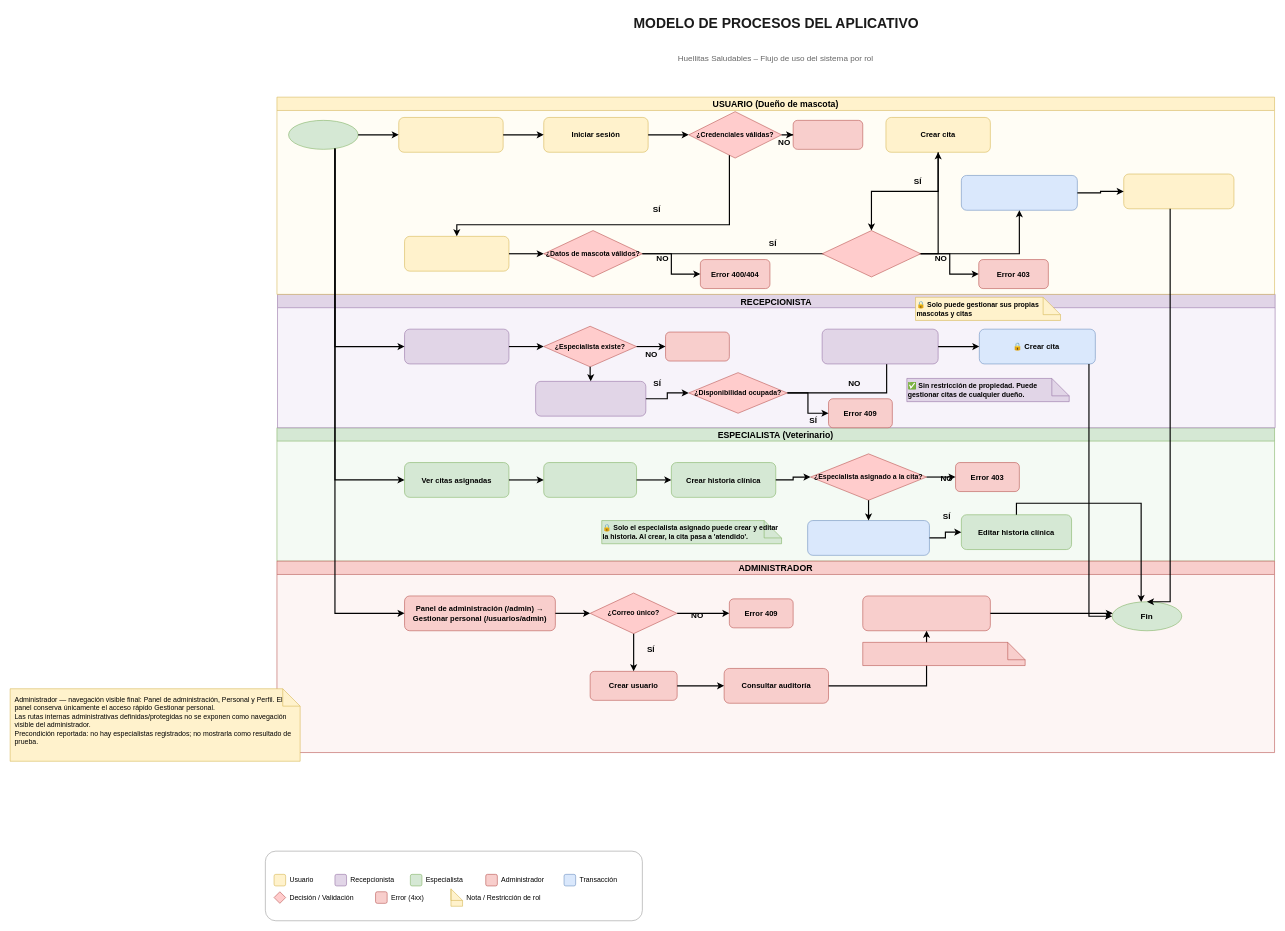
Some shapes in this 1285 by 931 pixel diagram are drawn without their labels. The shapes that lost their labels are listed below. From the top down, each one's centre as x and y in pixels, then its label:
pixel 323 134: Inicio
pixel 450 134: Registrarse en el sistema
pixel 828 134: Error 401
pixel 1019 192: 🔒 Crear cita (Transacción)
pixel 1178 191: Editar / Cancelar cita
pixel 456 253: Registrar mascota
pixel 871 253: ¿Mascota le pertenece?
pixel 456 346: Crear disponibilidad
pixel 697 346: Error 400
pixel 880 346: Crear cita para cualquier dueño
pixel 590 398: Gestionar disponibilidad
pixel 590 479: Atender cita
pixel 868 537: 🔒 Crear historia (Transacción)
pixel 926 613: Navegación visible final: Panel de administración · Personal · Perfil
pixel 943 654: Acceso rápido único del panel: Gestionar personal (/usuarios/admin)
